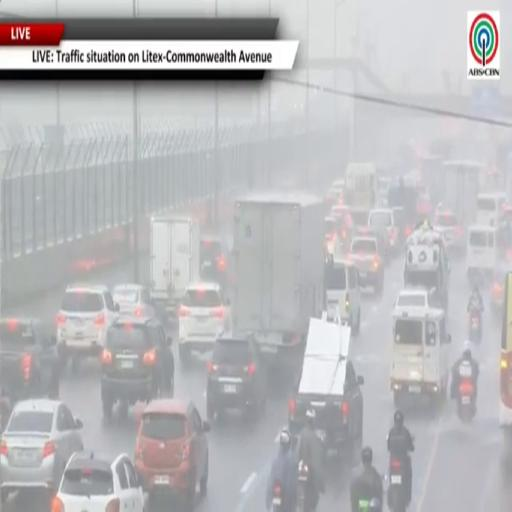bus: (499, 272, 511, 449)
car: (289, 318, 363, 457), (0, 399, 83, 502), (134, 398, 210, 510), (101, 317, 174, 419), (52, 451, 144, 511), (57, 284, 119, 369), (207, 336, 266, 422), (0, 318, 59, 403), (179, 282, 232, 364), (325, 258, 360, 334), (349, 236, 384, 294), (200, 234, 232, 292), (433, 207, 465, 254), (369, 208, 399, 253), (113, 284, 155, 316), (395, 287, 438, 310), (491, 266, 510, 317), (391, 206, 411, 246), (325, 179, 345, 209), (349, 207, 369, 232), (325, 217, 338, 253), (330, 204, 350, 219)
motorcycle: (388, 457, 407, 511), (457, 379, 476, 423), (298, 460, 309, 511), (469, 310, 482, 344), (358, 499, 382, 511), (271, 483, 281, 511)
truck: (233, 194, 324, 364), (150, 217, 200, 319), (442, 160, 482, 227), (345, 163, 378, 210)
